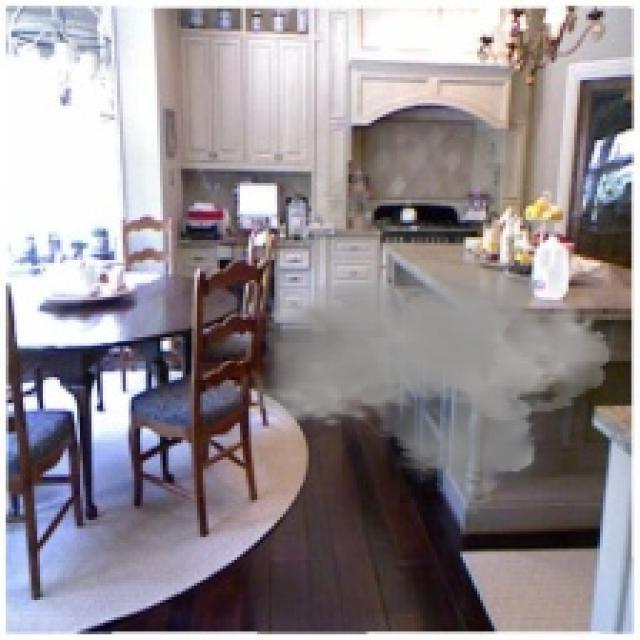Smoke: (248, 165, 612, 518)
